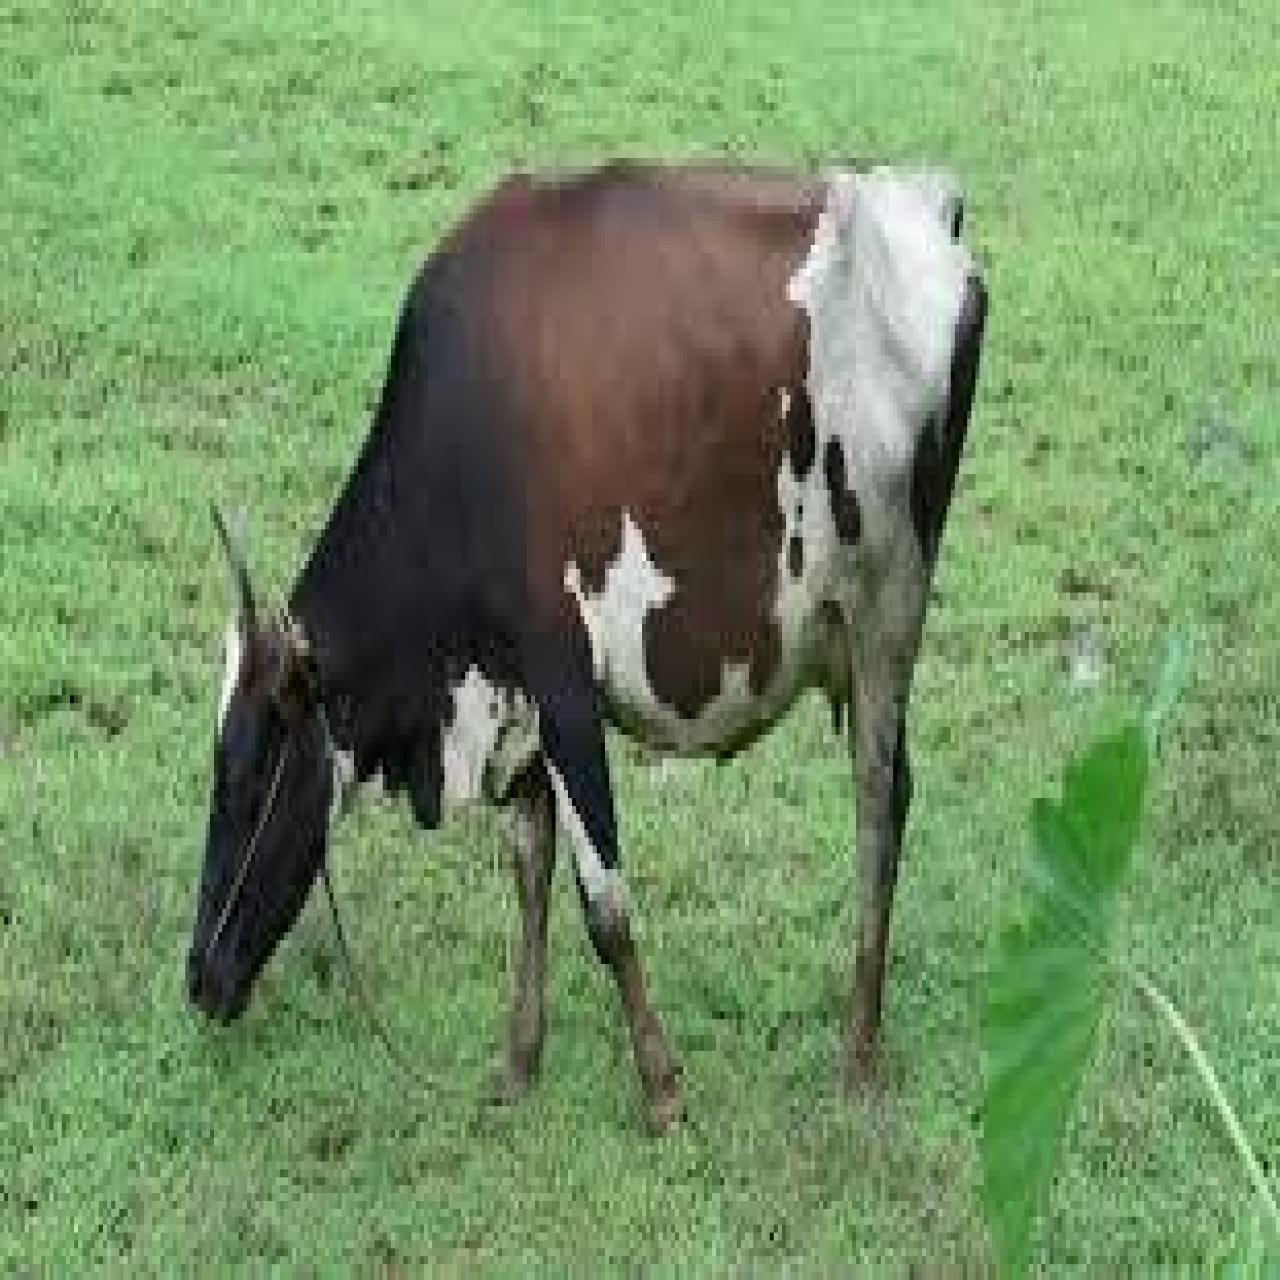cow: (181, 170, 992, 1133)
